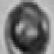correct: (3, 0, 51, 54)
